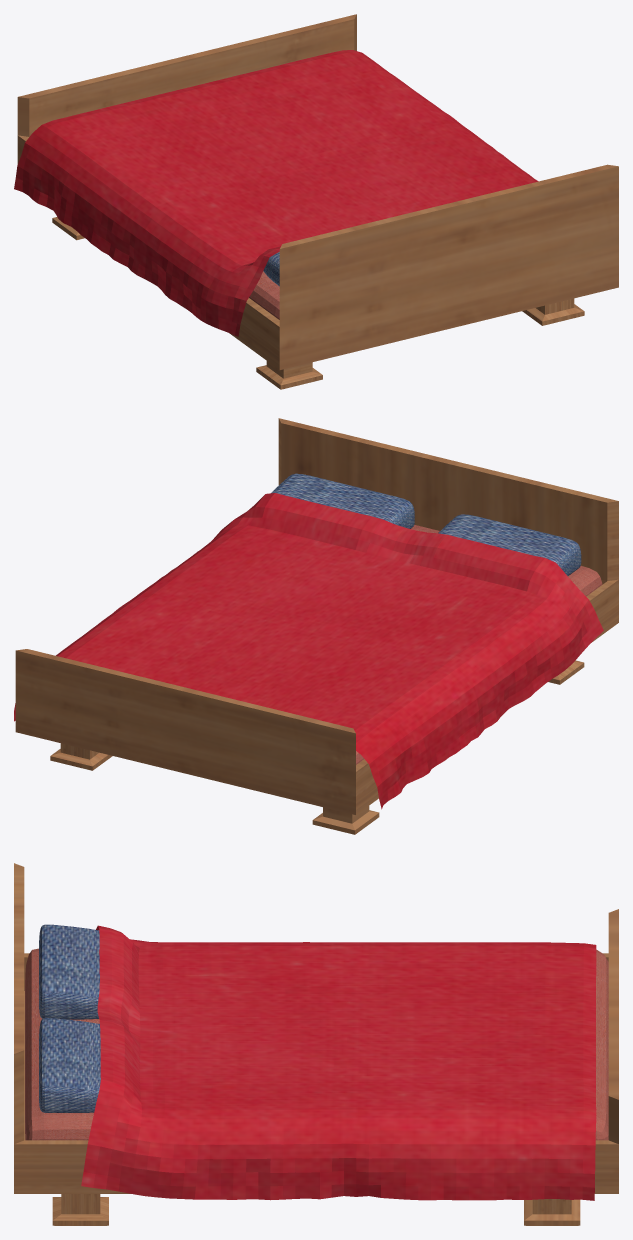
Rendered from bed.fbx.
3 renders of one model, top to bottom at view 1: azimuth 30°, elevation 25°; view 2: azimuth 150°, elevation 25°; view 3: azimuth 270°, elevation 25°, orthographic. The views are drawn at different scales.
Visible parts, largest first — view 1: Cloth, Main, Matress; view 2: Cloth, Main, PillowRight, PillowLeft, Matress; view 3: Cloth, Main, Matress, PillowLeft, PillowRight.
Boxes of the visible parts, x1,y1,x2,y2 form: Cloth: (14, 50, 538, 336); Main: (17, 14, 618, 389); Matress: (249, 271, 279, 319); Cloth: (14, 493, 603, 809); Main: (15, 418, 618, 834); PillowRight: (438, 514, 581, 575); PillowLeft: (271, 473, 414, 528); Matress: (356, 525, 602, 764); Cloth: (81, 925, 596, 1200); Main: (14, 863, 618, 1225); Matress: (25, 948, 608, 1140); PillowLeft: (39, 1018, 100, 1112); PillowRight: (39, 924, 99, 1019).
Bounding box in the file's own units: 3.93 × 1.62 × 4.84.
